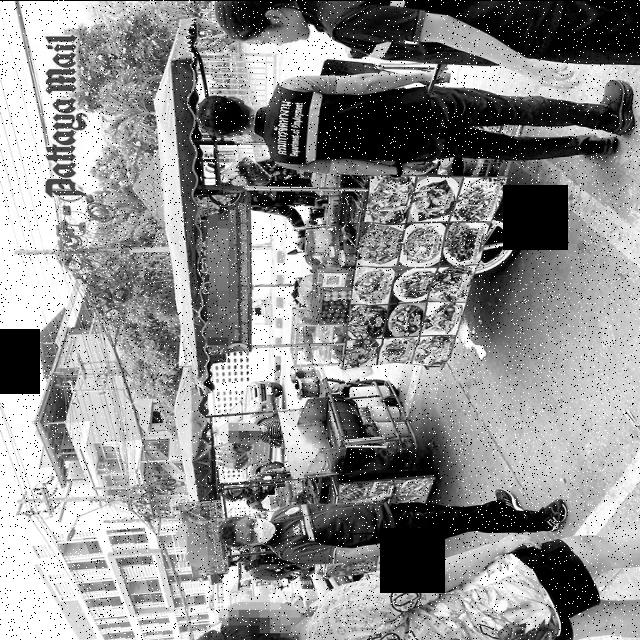food-booth: (155, 29, 521, 394), (175, 365, 436, 585)
